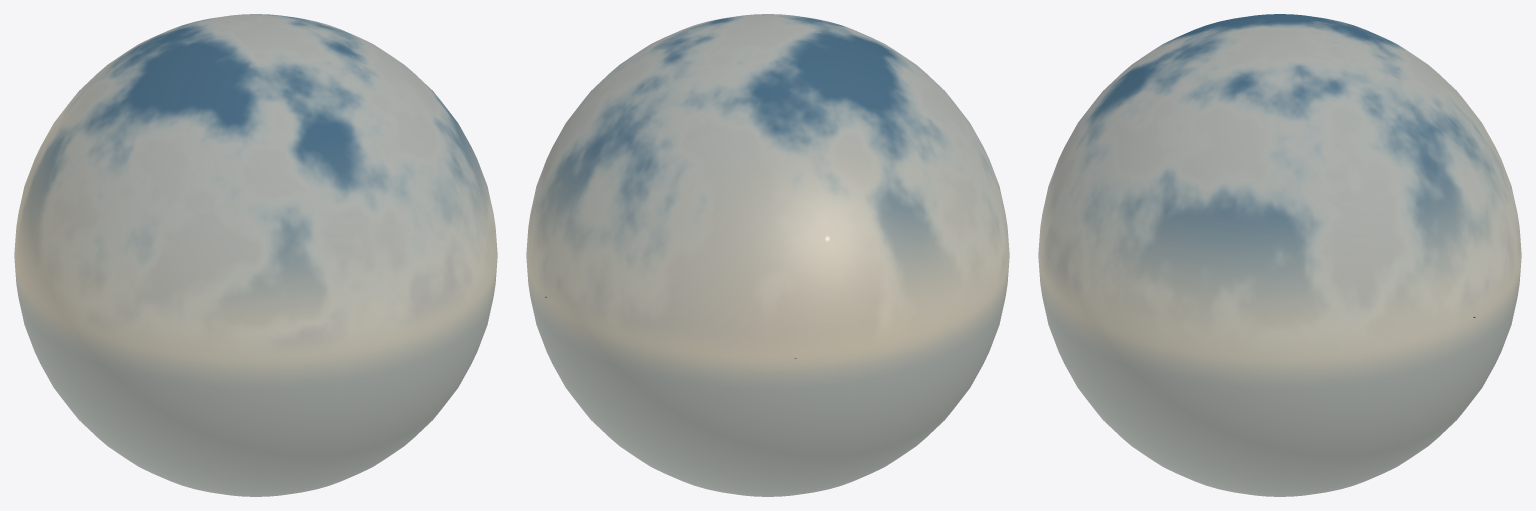
3 renders of one model, left to right at view 1: azimuth 30°, elevation 25°; view 2: azimuth 150°, elevation 25°; view 3: azimuth 270°, elevation 25°, orthographic.
Visible parts, largest first — view 1: shipment-sky; view 2: shipment-sky; view 3: shipment-sky.
Boxes of the visible parts, x1,y1,x2,y2 form: shipment-sky: [14, 14, 497, 496]; shipment-sky: [526, 14, 1009, 496]; shipment-sky: [1038, 14, 1521, 496].
Bounding box in the file's own units: 900 × 900 × 900.
Materials: 57 (42 with a texture image).
